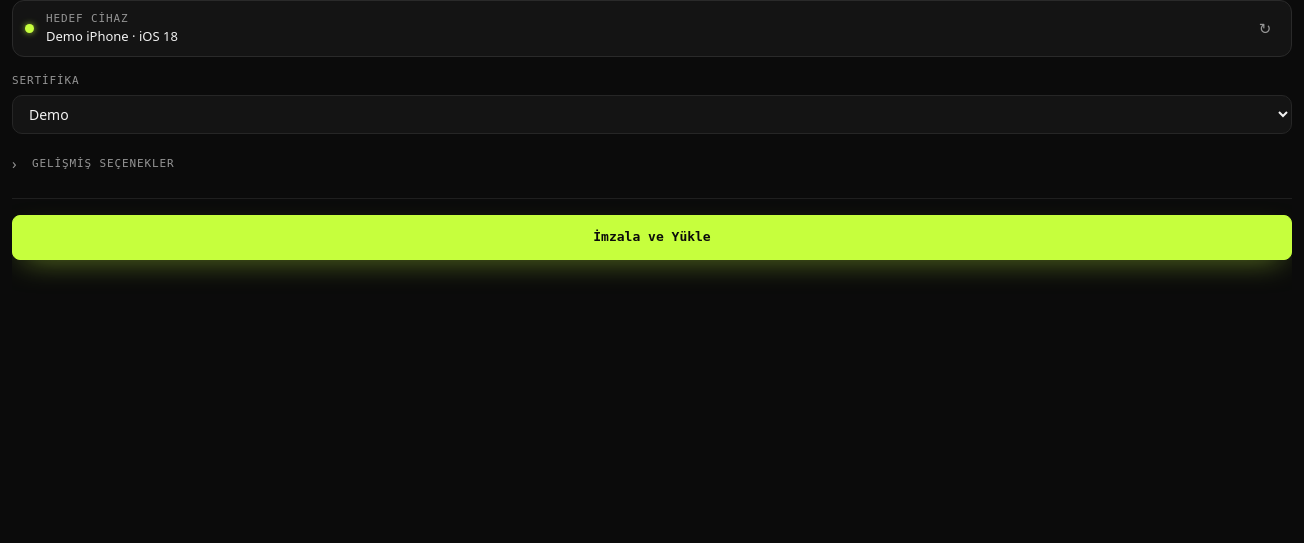
Scenario: opening advanced options reveals the bundle ID, name and icon controls
Click the button "› Gelişmiş seçenekler". click: {"x": 103, "y": 163}
box: [12,150,1292,178]
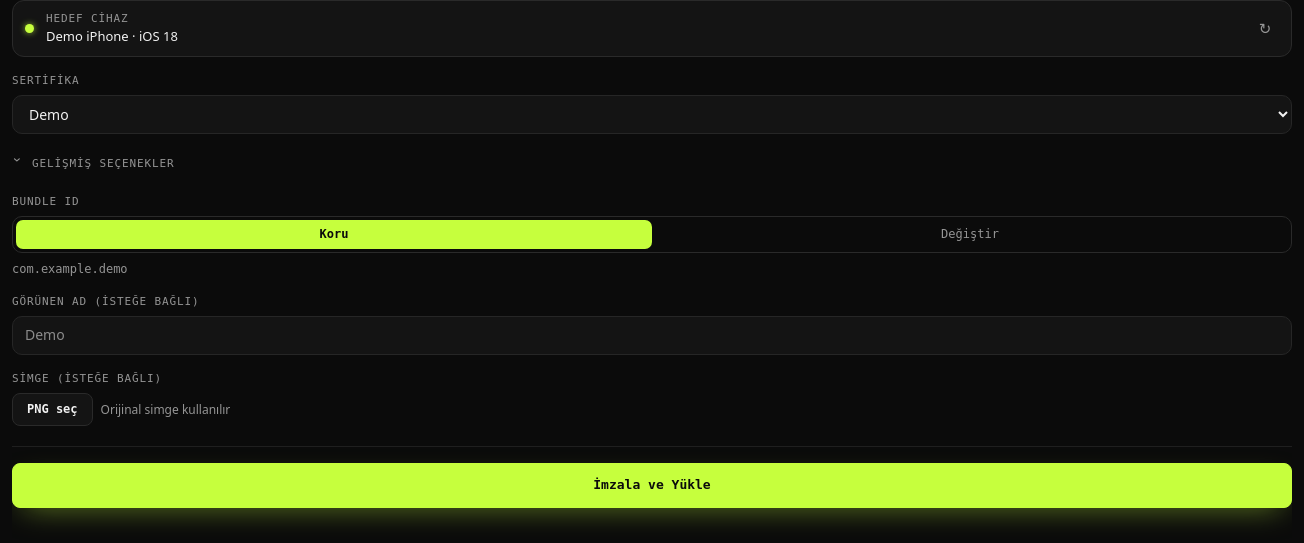
Expected: the radio button labelled "Değiştir" is shown, [941,227,999,241]
Expected: the text "PNG seç" is shown, [12,392,93,426]
